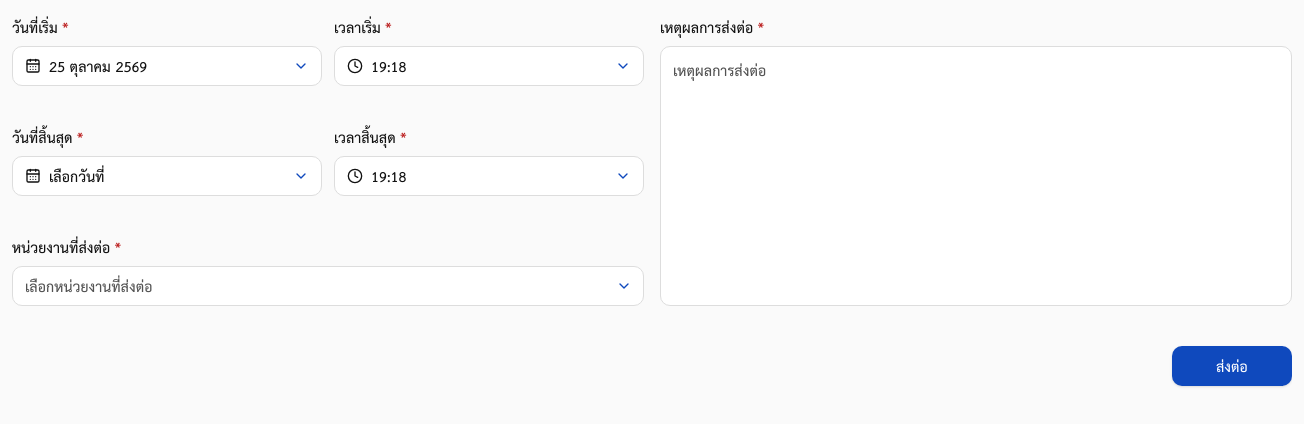
Scenario: ReferralForm › names each missing field and does not ask to confirm
Click the button "ส่งต่อ": (1232, 366) [1172,346,1292,386]
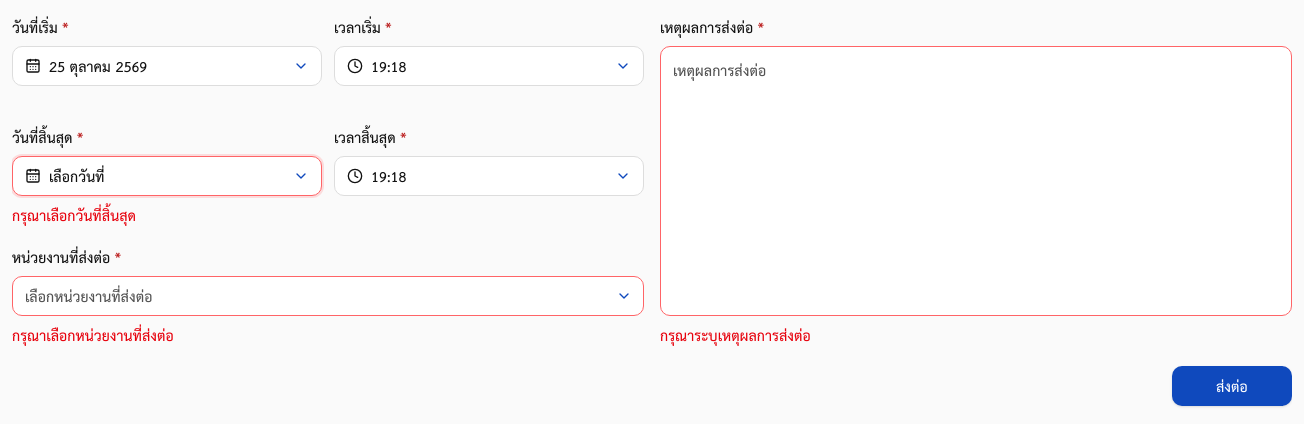
Expected: the text "กรุณาเลือกวันที่สิ้นสุด" is shown, [12,203,136,226]
Expected: the text "กรุณาเลือกหน่วยงานที่ส่งต่อ" is shown, [12,323,174,346]
Expected: the text "กรุณาระบุเหตุผลการส่งต่อ" is shown, [660,323,811,346]
